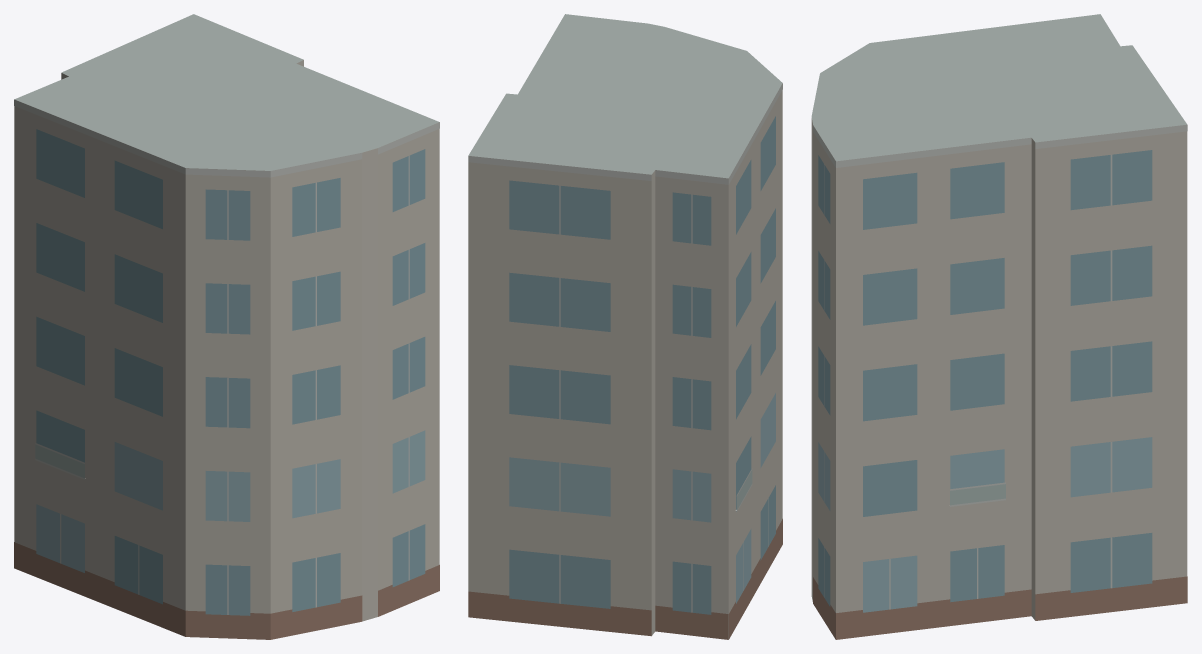
The model's file is survey-upis-33039450.glb.
The picture shows the model from 3 angles, left to right: view 1: azimuth 30°, elevation 25°; view 2: azimuth 150°, elevation 25°; view 3: azimuth 270°, elevation 25°; orthographic projection. The views are drawn at different scales.
Visible parts, largest first — view 1: survey-upis-33039450.tmp; view 2: survey-upis-33039450.tmp; view 3: survey-upis-33039450.tmp.
Boxes of the visible parts, bbox=[...] form: survey-upis-33039450.tmp: bbox=[14, 14, 439, 639]; survey-upis-33039450.tmp: bbox=[468, 14, 782, 639]; survey-upis-33039450.tmp: bbox=[811, 14, 1187, 639].
Size of the model in its own units: 11.52 by 17.43 by 12.42.
